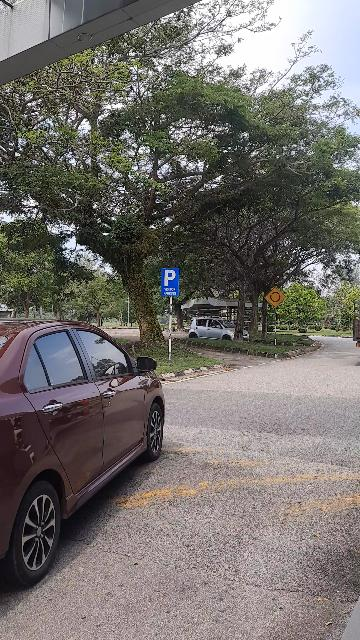car: (2, 302, 175, 593)
